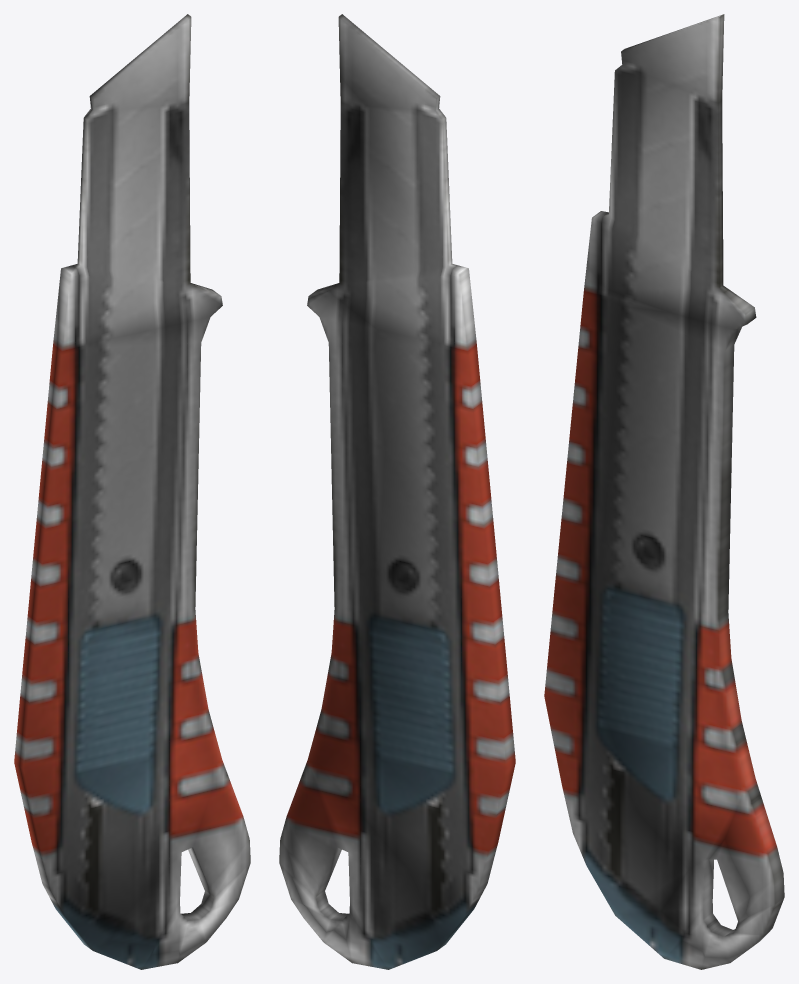
Rendered from paper cutter.fbx.
The picture shows the model from 3 angles, left to right: view 1: azimuth 30°, elevation 25°; view 2: azimuth 150°, elevation 25°; view 3: azimuth 330°, elevation 25°; orthographic projection.
Visible parts, largest first — view 1: paper_cutter; view 2: paper_cutter; view 3: paper_cutter.
Part boxes in pixels (x1=…): paper_cutter: x1=14, y1=14, x2=250, y2=969; paper_cutter: x1=279, y1=14, x2=515, y2=969; paper_cutter: x1=544, y1=14, x2=784, y2=969.
Size of the model in its own units: 0.076 by 0.2999 by 0.00526.
